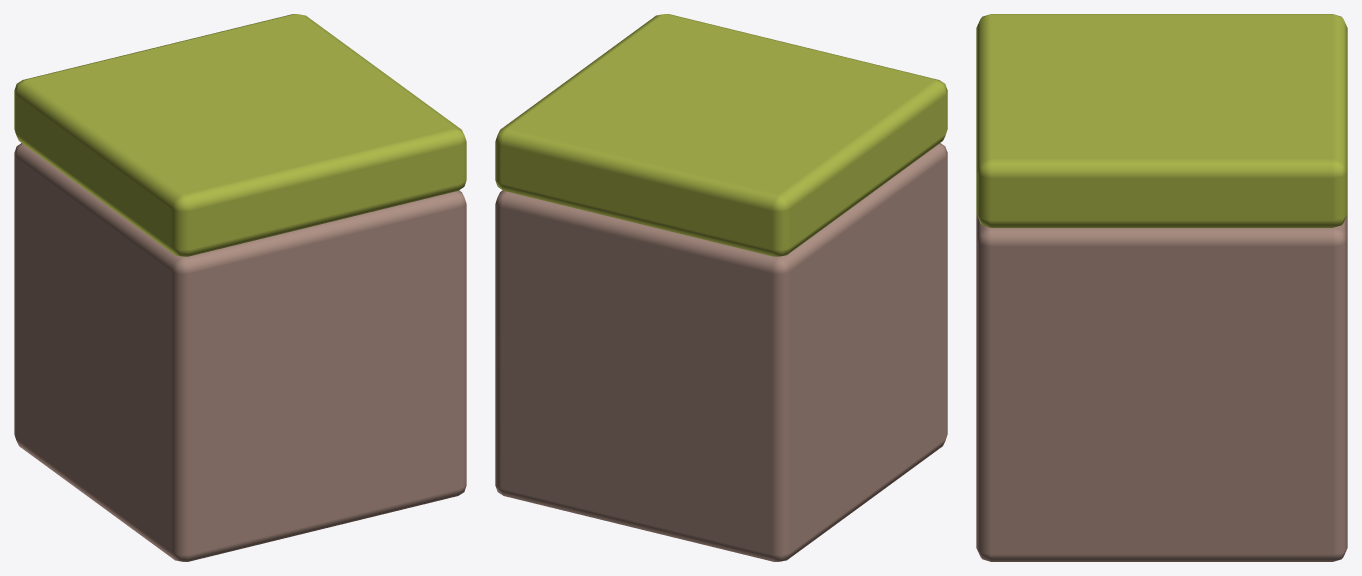
The picture shows the model from 3 angles, left to right: view 1: azimuth 30°, elevation 25°; view 2: azimuth 150°, elevation 25°; view 3: azimuth 270°, elevation 25°; orthographic projection. The views are drawn at different scales.
Parts seen in each view (by area): view 1: Cube.238; view 2: Cube.238; view 3: Cube.238.
Boxes of the visible parts, <box> form: Cube.238: <box>14,14,466,561</box>; Cube.238: <box>495,14,947,561</box>; Cube.238: <box>976,14,1347,561</box>.
Size of the model in its own units: 1 by 1.2 by 1.
Materials: 1 (1 with a texture image).
